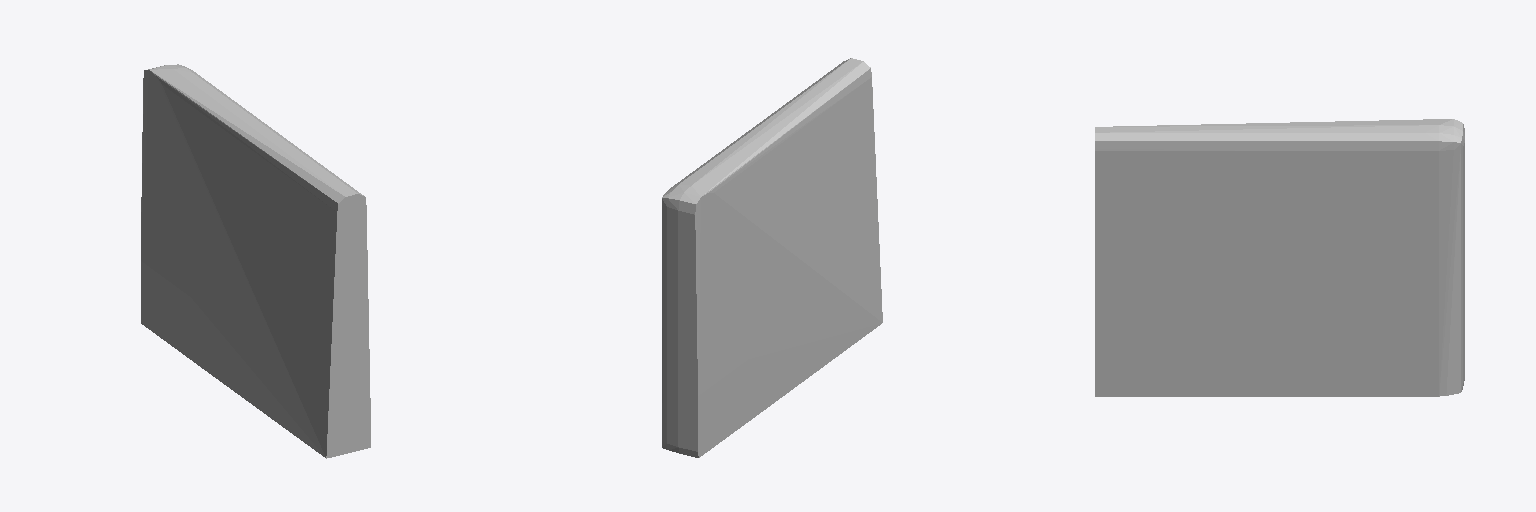
Rendered from ShipScene_collision_3.obj.
The picture shows the model from 3 angles: view 1: azimuth 30°, elevation 25°; view 2: azimuth 150°, elevation 25°; view 3: azimuth 270°, elevation 25°; orthographic projection.
Size of the model in its own units: 18.43 by 100 by 130.